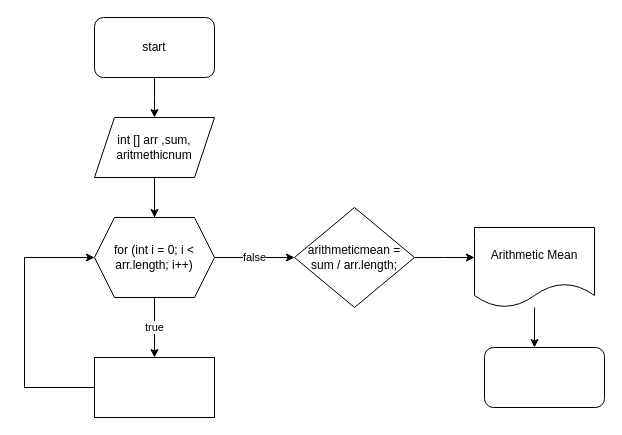
This 622x435 diagram has some shape labels left out. Here are the shapes that lost their labels. From the top down, the centre of each, then its label:
(154,387): sum += arr[i];
(544,377): end
